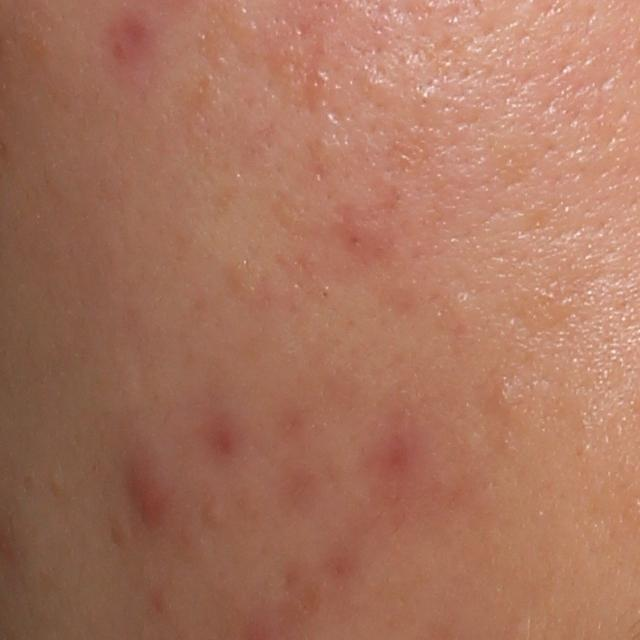comedo: (200, 498, 226, 528)
